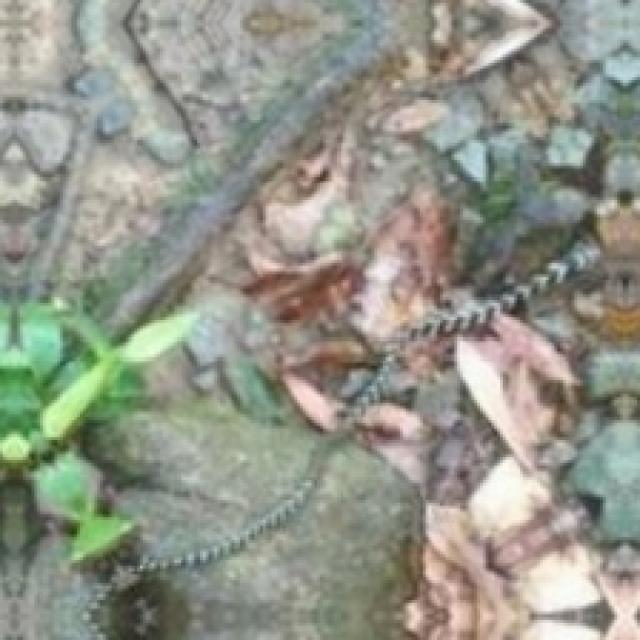king cobra: (62, 429, 349, 639), (340, 241, 599, 427)
